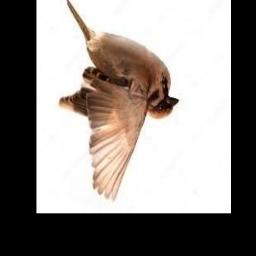Sparrow: (59, 0, 179, 202)
